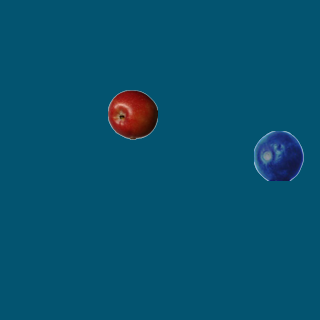Apple Braeburn: (107, 89, 157, 139)
Huckleberry: (253, 130, 303, 180)
